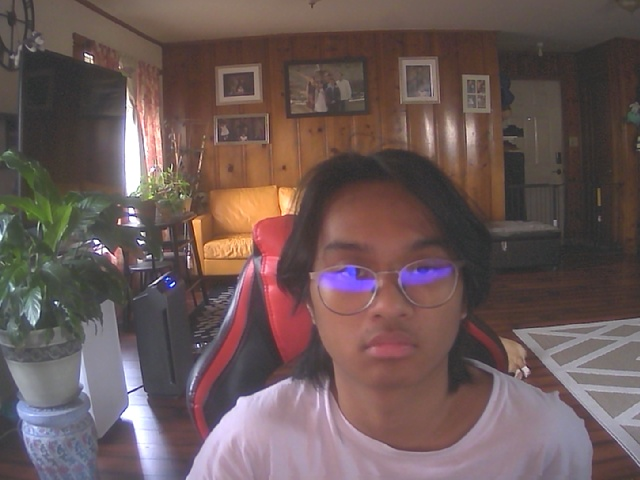neutral: (291, 150, 484, 394)
